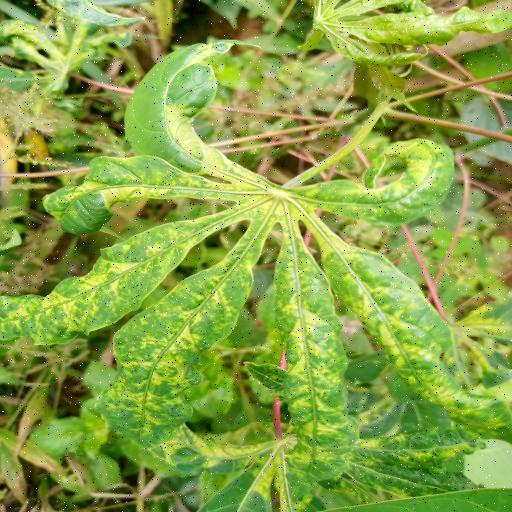Cassava_Mosaic: (0, 38, 512, 495)
